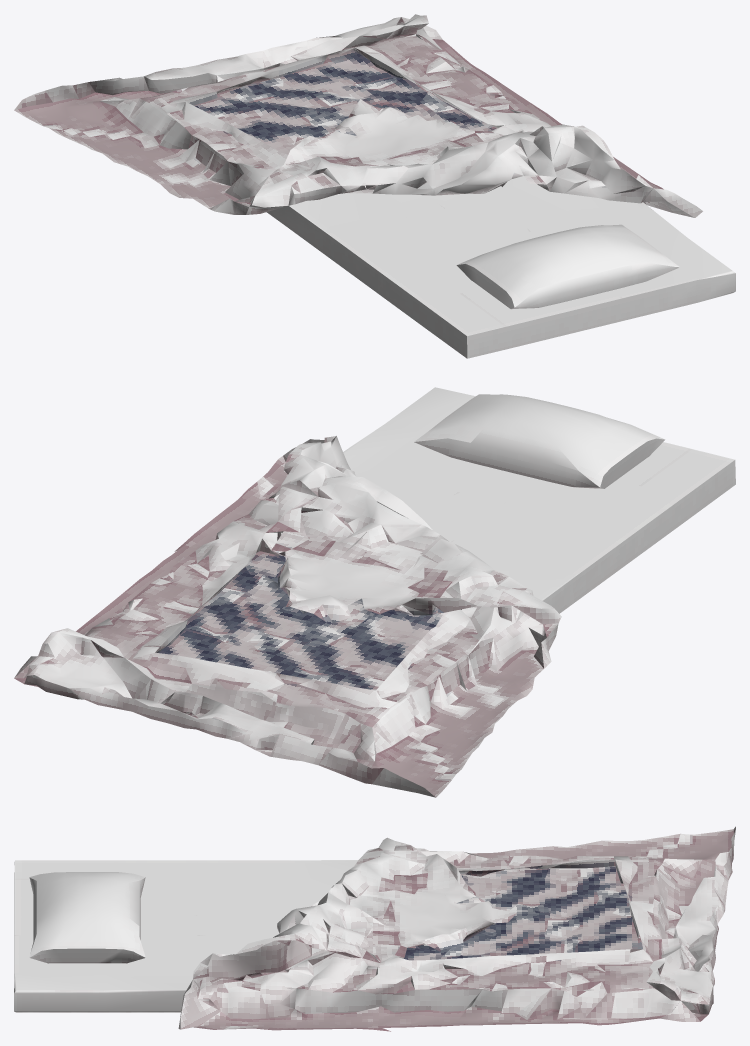
File: room_futon.glb
3 renders of one model, top to bottom at view 1: azimuth 30°, elevation 25°; view 2: azimuth 150°, elevation 25°; view 3: azimuth 270°, elevation 25°, orthographic. The views are drawn at different scales.
Parts seen in each view (by area): view 1: mesh; view 2: mesh; view 3: mesh.
Part boxes in pixels (x1=…): mesh: x1=14, y1=14, x2=735, y2=358; mesh: x1=14, y1=387, x2=735, y2=797; mesh: x1=14, y1=826, x2=735, y2=1031.
Bounding box in the file's own units: 1.74 × 0.2801 × 2.64.
Materials: 1 (1 with a texture image).
